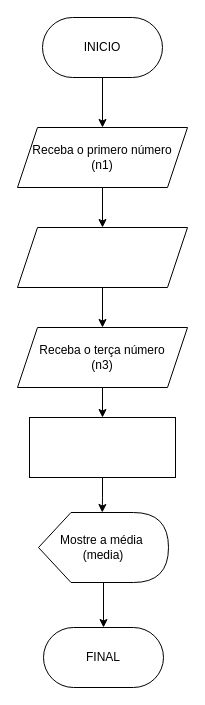
The diagram is 205 pixels wide and 705 high, and some of its shapes have lost their labels. The shapes that lost their labels are listed below. From the top down, each one's centre as x and y in pixels, then its label:
At [102,257]: "Receba o segundo número (n2)".
At [102,447]: "Calcule a média ((n1 + n2 +n3)/3 = media)".
